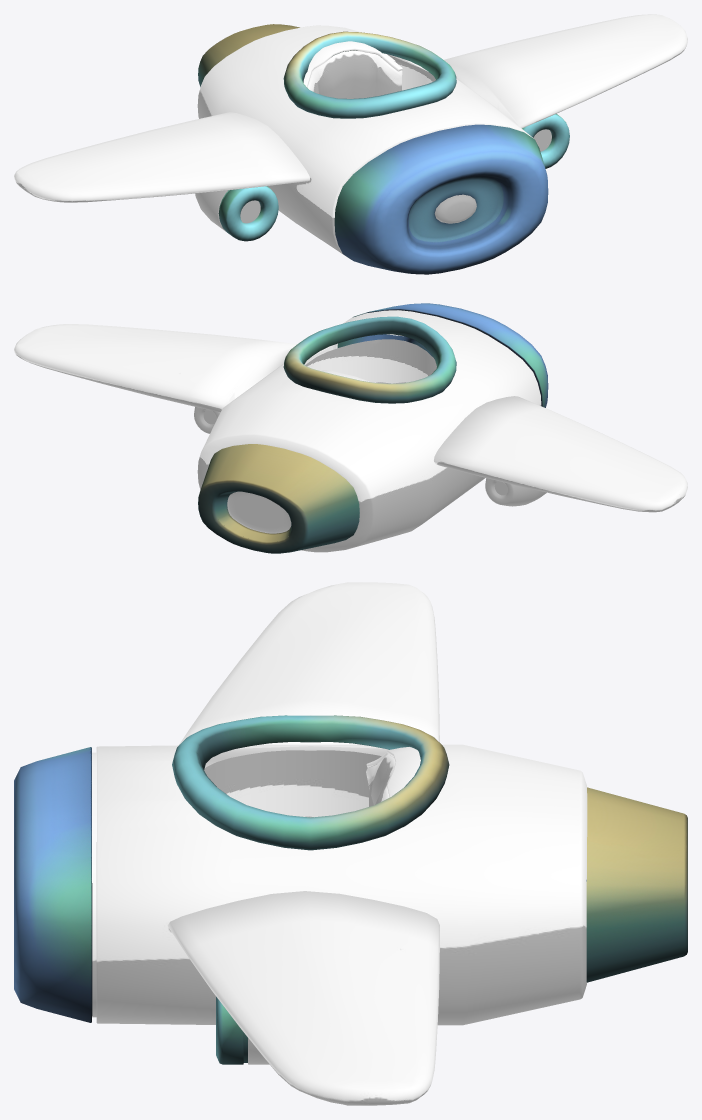
Rendered from flying-machine.glb.
The picture shows the model from 3 angles, top to bottom: view 1: azimuth 30°, elevation 25°; view 2: azimuth 150°, elevation 25°; view 3: azimuth 270°, elevation 25°; orthographic projection. The views are drawn at different scales.
Visible parts, largest first — view 1: Vehicle.043, Vehicle.039, Vehicle.034, Vehicle.036, Vehicle.081, Vehicle.031, Vehicle.044, Vehicle.041, Vehicle.047, Vehicle.028, Vehicle.032, Vehicle.004 (+1 smaller); view 2: Vehicle.039, Vehicle.034, Vehicle.036, Vehicle.041, Vehicle.081, Vehicle.009, Vehicle.042, Vehicle.043, Vehicle.010, Vehicle.040, Vehicle.004, Vehicle.003; view 3: Vehicle.039, Vehicle.036, Vehicle.034, Vehicle.043, Vehicle.081, Vehicle.041, Vehicle.009, Vehicle.047, Vehicle.038, Vehicle.028, Vehicle.031.
Boxes of the visible parts, box(x1,y1,x2,y2) form: Vehicle.043: box(334, 124, 548, 274); Vehicle.039: box(197, 25, 533, 259); Vehicle.034: box(14, 112, 309, 202); Vehicle.036: box(444, 14, 687, 128); Vehicle.081: box(283, 31, 456, 118); Vehicle.031: box(307, 50, 402, 98); Vehicle.044: box(218, 186, 278, 241); Vehicle.041: box(198, 24, 357, 86); Vehicle.047: box(522, 114, 569, 168); Vehicle.028: box(303, 41, 402, 87); Vehicle.032: box(439, 198, 476, 223); Vehicle.004: box(195, 190, 227, 231); Vehicle.039: box(197, 310, 541, 552); Vehicle.034: box(434, 396, 687, 512); Vehicle.036: box(14, 324, 297, 412); Vehicle.041: box(200, 444, 359, 551); Vehicle.081: box(283, 316, 456, 403); Vehicle.009: box(305, 339, 436, 383); Vehicle.042: box(198, 479, 308, 553); Vehicle.043: box(337, 303, 548, 407); Vehicle.010: box(227, 491, 291, 533); Vehicle.040: box(215, 491, 291, 541); Vehicle.004: box(485, 478, 546, 506); Vehicle.003: box(485, 478, 514, 504); Vehicle.039: box(96, 744, 587, 1025); Vehicle.036: box(167, 891, 439, 1105); Vehicle.034: box(179, 582, 439, 744); Vehicle.043: box(14, 747, 92, 1022); Vehicle.081: box(172, 715, 449, 850); Vehicle.041: box(586, 787, 684, 982); Vehicle.009: box(204, 750, 381, 817); Vehicle.047: box(216, 996, 243, 1064); Vehicle.038: box(92, 752, 96, 1017); Vehicle.028: box(366, 747, 420, 797); Vehicle.031: box(366, 754, 395, 806).
Size of the model in its own units: 3.15 by 0.6911 by 1.75.
Materials: 2 (2 with a texture image).
